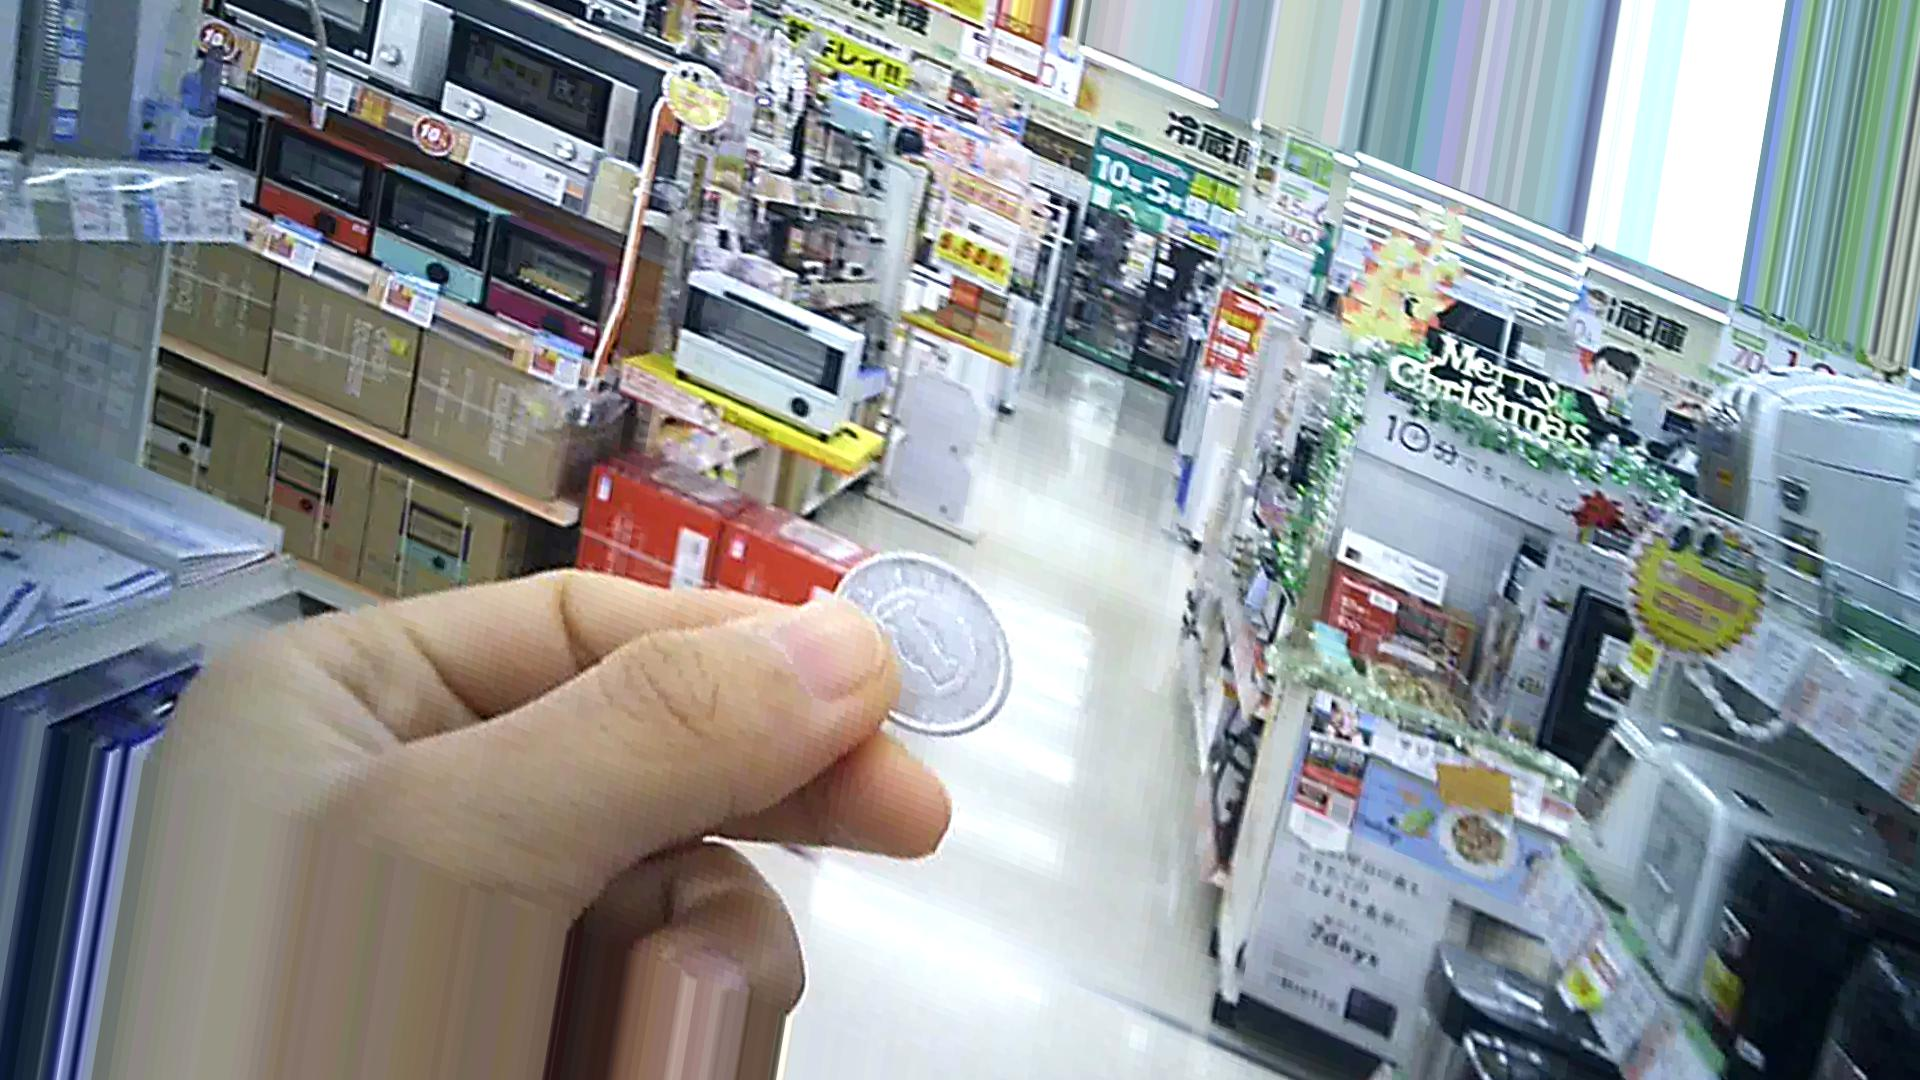1 Yen: (818, 534, 1027, 740)
